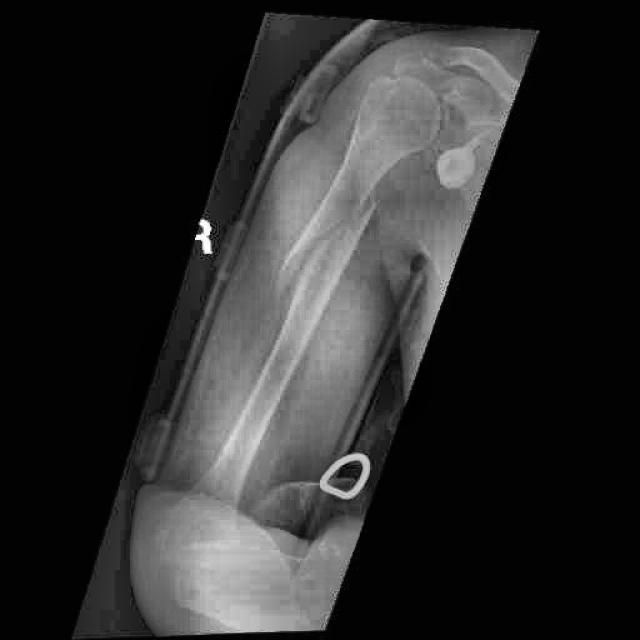humerus: (247, 181, 409, 328)
